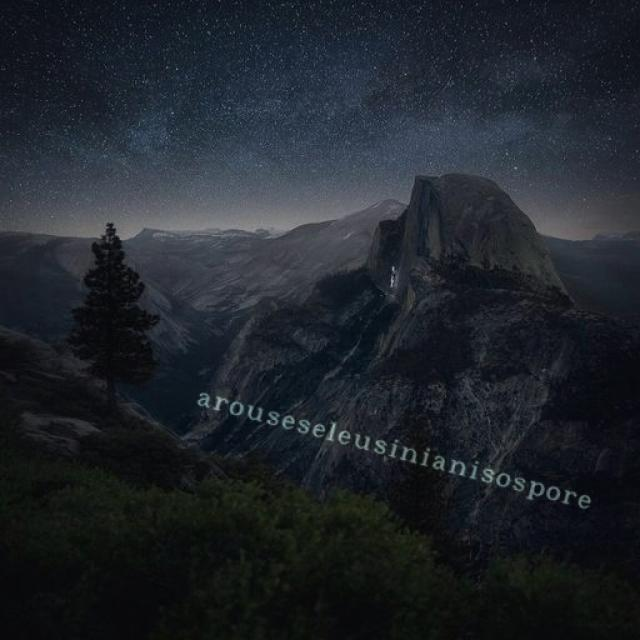watermark: (187, 384, 607, 513)
